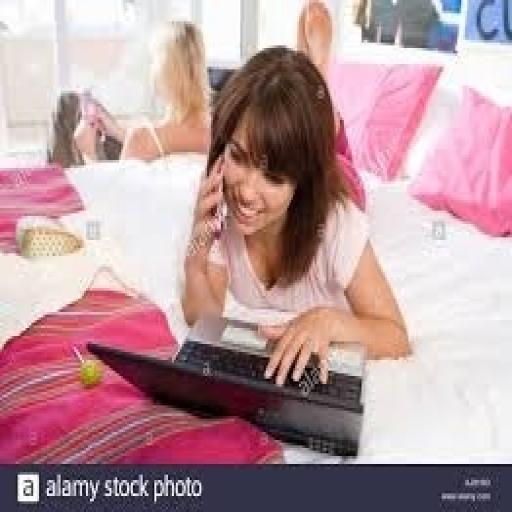using_laptop: (86, 312, 369, 456)
